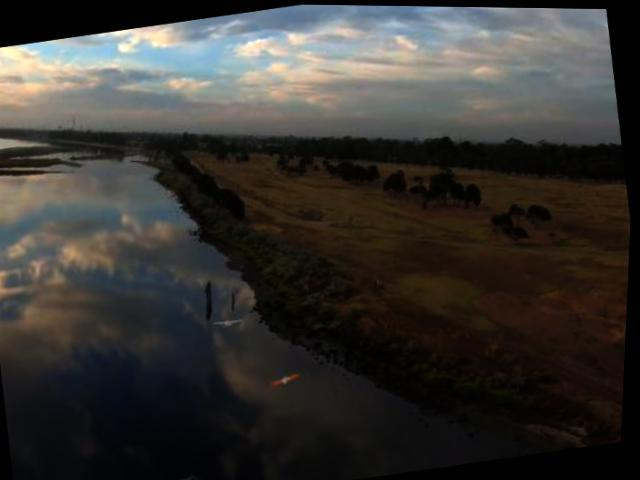uav: (267, 367, 309, 388), (215, 309, 250, 333), (160, 469, 222, 480)
